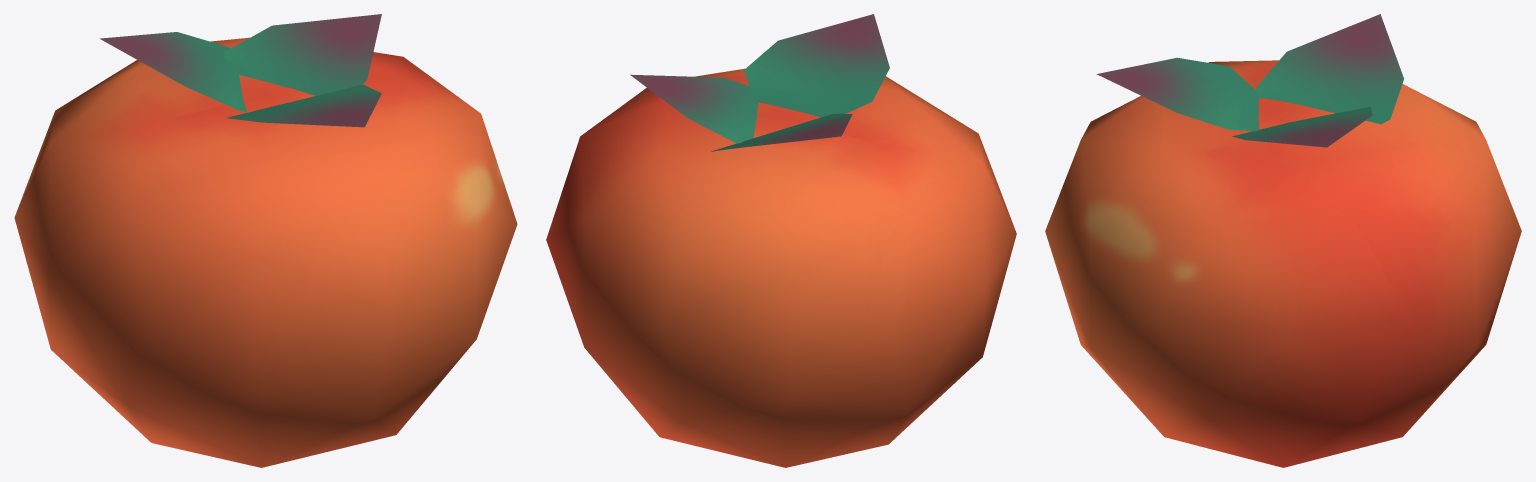
The model's file is SM_Item_Kaki.fbx.
3 renders of one model, left to right at view 1: azimuth 30°, elevation 25°; view 2: azimuth 150°, elevation 25°; view 3: azimuth 270°, elevation 25°, orthographic. The views are drawn at different scales.
Visible parts, largest first — view 1: SM_Item_Kaki; view 2: SM_Item_Kaki; view 3: SM_Item_Kaki.
Part boxes in pixels (left/top/right/bottom): SM_Item_Kaki: left=14, top=14, right=517, bottom=467; SM_Item_Kaki: left=546, top=14, right=1016, bottom=467; SM_Item_Kaki: left=1045, top=14, right=1521, bottom=467.
Size of the model in its own units: 27.74 by 24.39 by 27.74.
